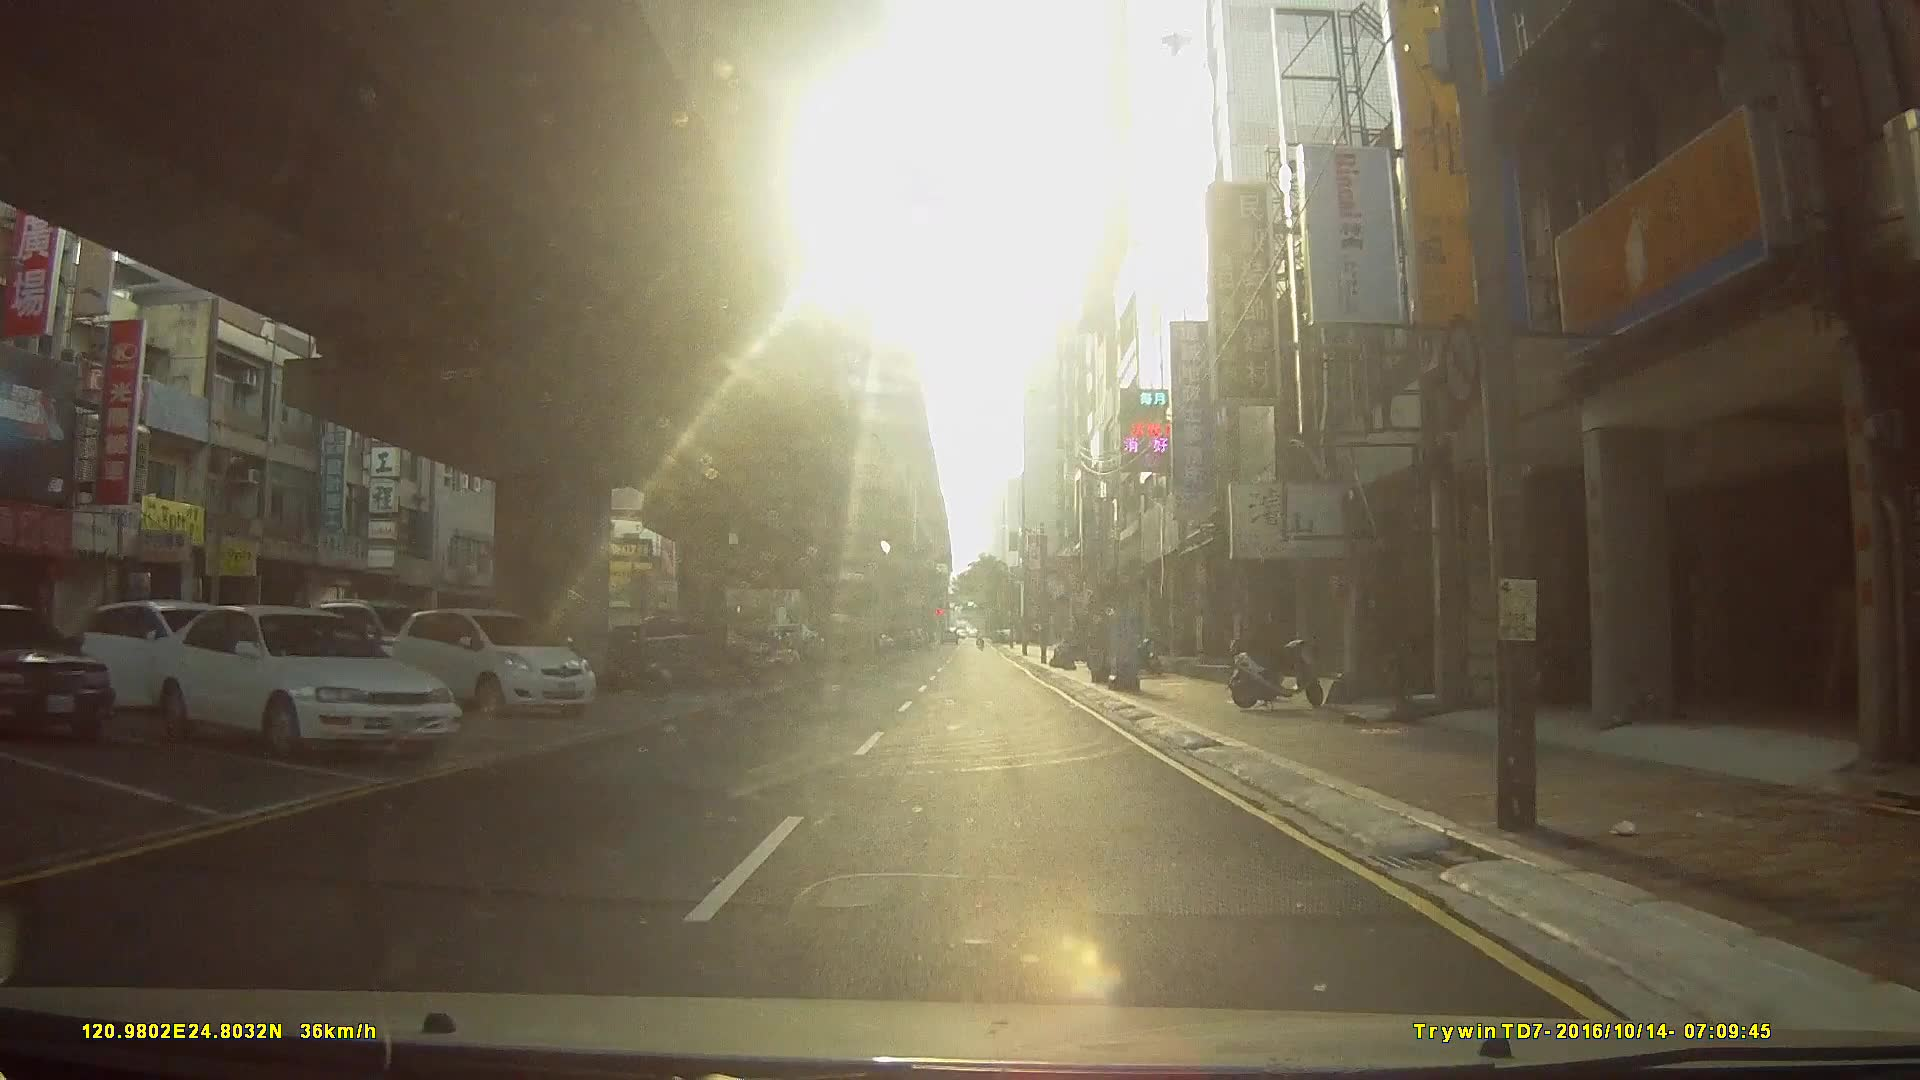vehicle: (146, 604, 460, 760), (388, 605, 599, 715), (75, 601, 255, 711), (0, 601, 112, 742)
